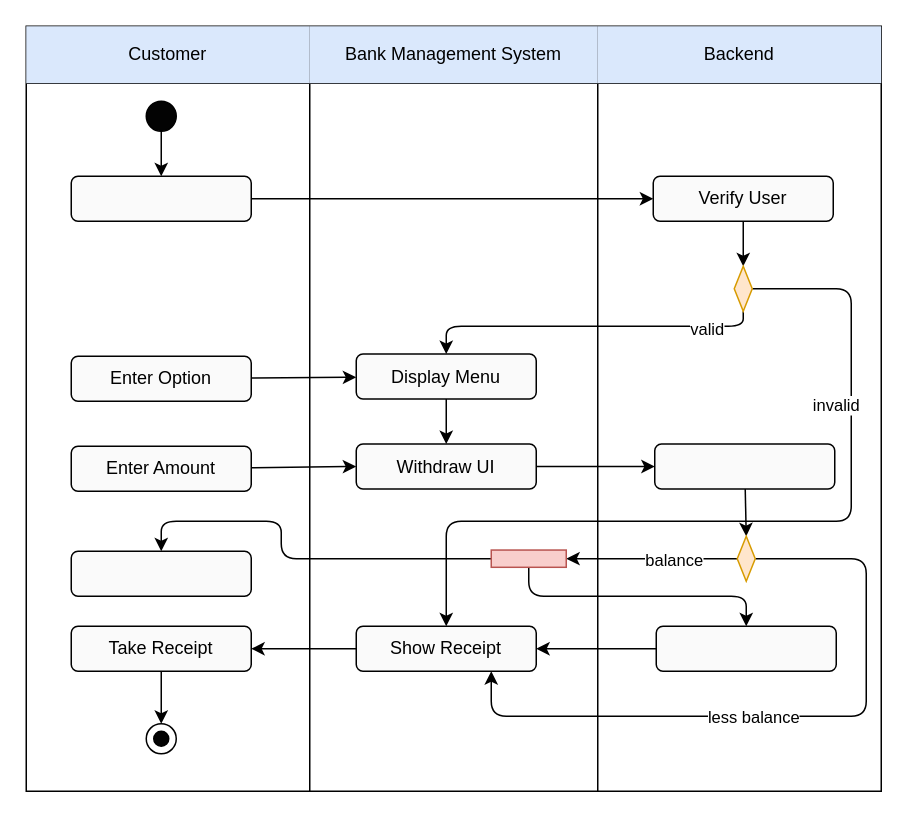
Image size: 908x818. Some labels were removed from this diagram. The centre of each missing label's shape, as x and y in pixels:
"Check Balance" goes at (x=744, y=465).
"Debit Accout" goes at (x=745, y=648).
"Enter Info" goes at (x=160, y=198).
"Take Money" goes at (x=160, y=573).
